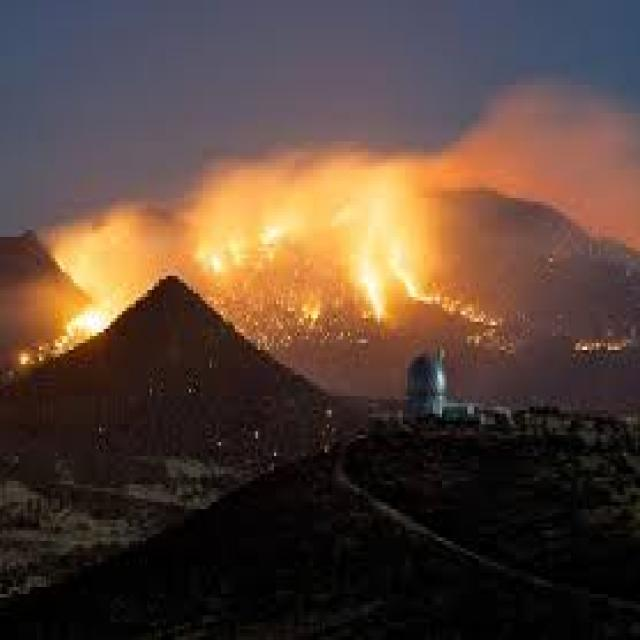Fire: (10, 145, 511, 366), (572, 319, 640, 363)
Smoke: (446, 31, 640, 205)
